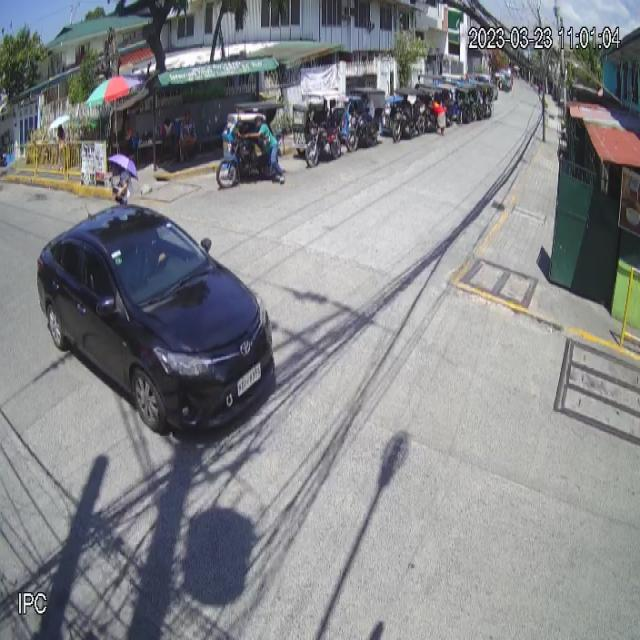Car: (36, 200, 277, 438)
